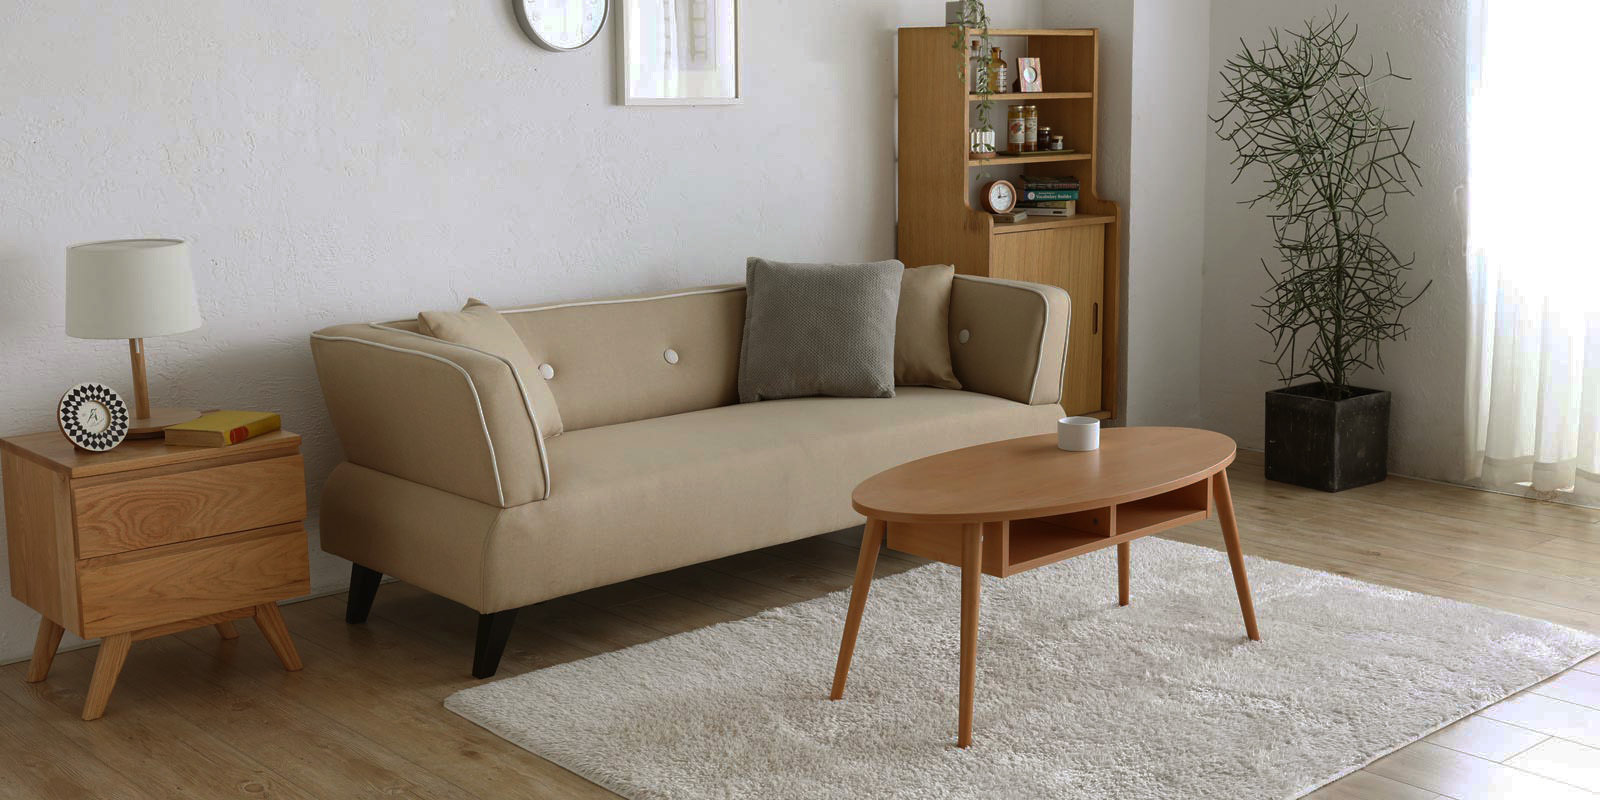Dime Three Seater Sofa in Beige Colour by Zofa: (297, 242, 1118, 685)
